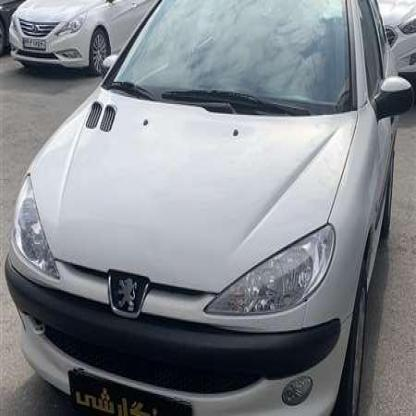Car: (13, 0, 408, 416), (0, 0, 154, 90), (366, 0, 416, 90)
